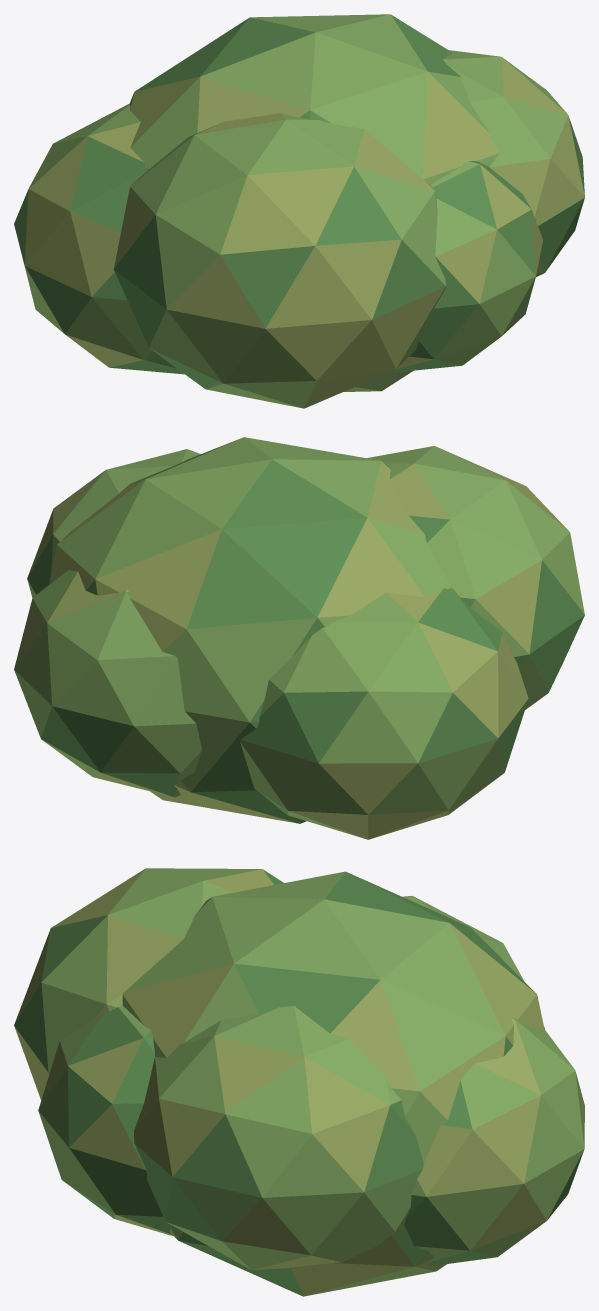
Rendered from bush_round.glb.
The picture shows the model from 3 angles, top to bottom: view 1: azimuth 30°, elevation 25°; view 2: azimuth 150°, elevation 25°; view 3: azimuth 270°, elevation 25°; orthographic projection. The views are drawn at different scales.
Visible parts, largest first — view 1: bush_round; view 2: bush_round; view 3: bush_round.
Boxes of the visible parts, left/top/right/bottom form: bush_round: left=14, top=14, right=584, bottom=408; bush_round: left=14, top=437, right=584, bottom=839; bush_round: left=14, top=868, right=584, bottom=1296.
Size of the model in its own units: 1.52 by 1 by 1.41.
